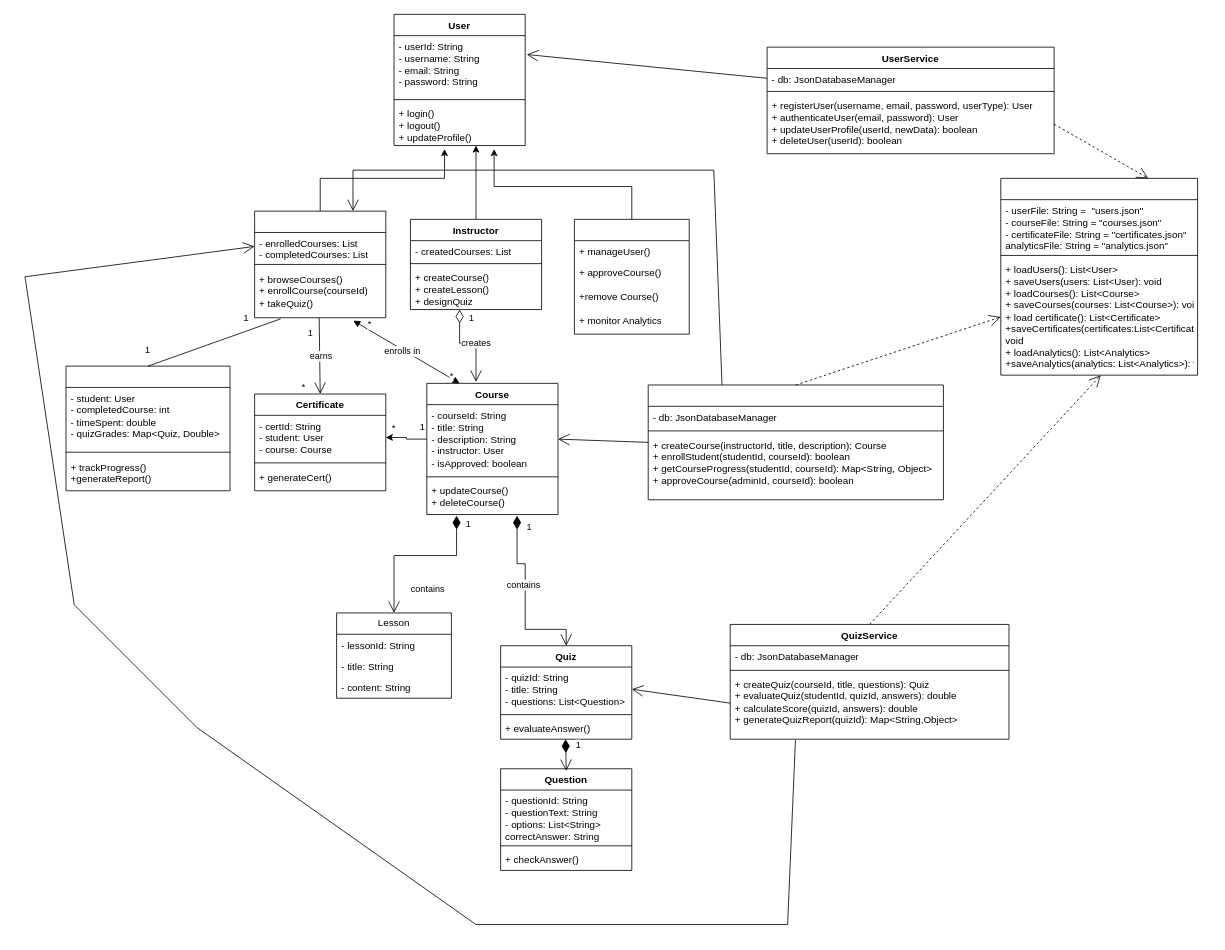
Image size: 1225x950. Some labels were removed from this diagram. Here are the shapes that lost their labels. From the top down, the box of each, then its label:
(254, 210, 386, 318): Student
(574, 219, 689, 334): Admin
(1000, 178, 1198, 375): JsonDatabase Manager
(65, 365, 230, 491): Analytics
(647, 384, 943, 500): CourseService
